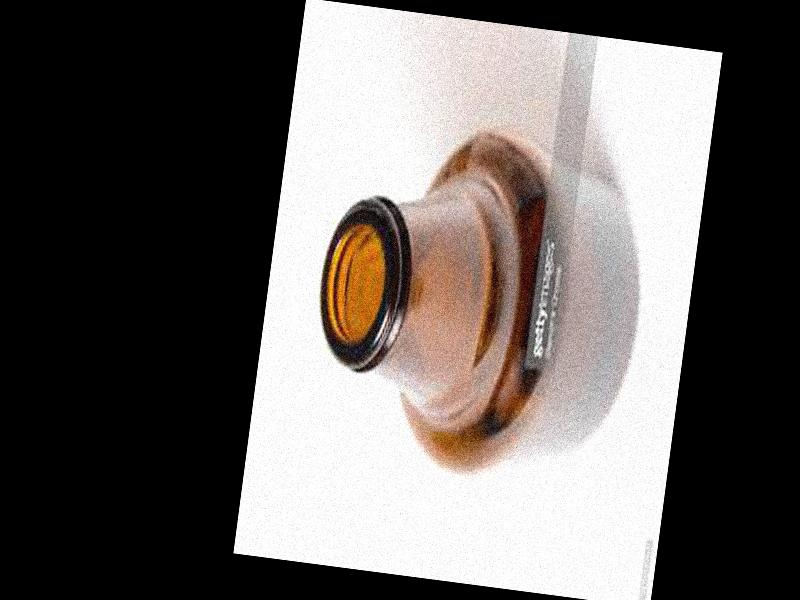Beer: (298, 107, 661, 492)
